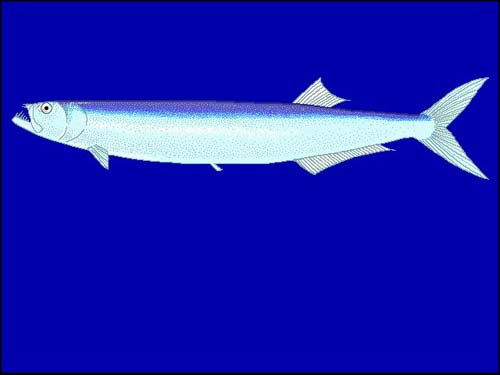fish: (12, 78, 489, 182)
